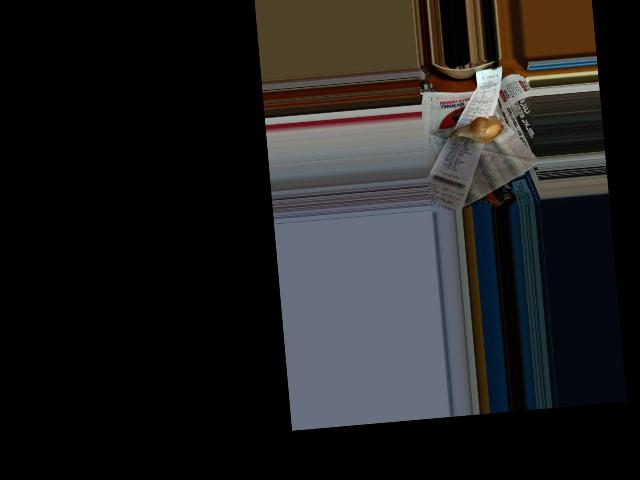onion: (463, 116, 504, 145)
